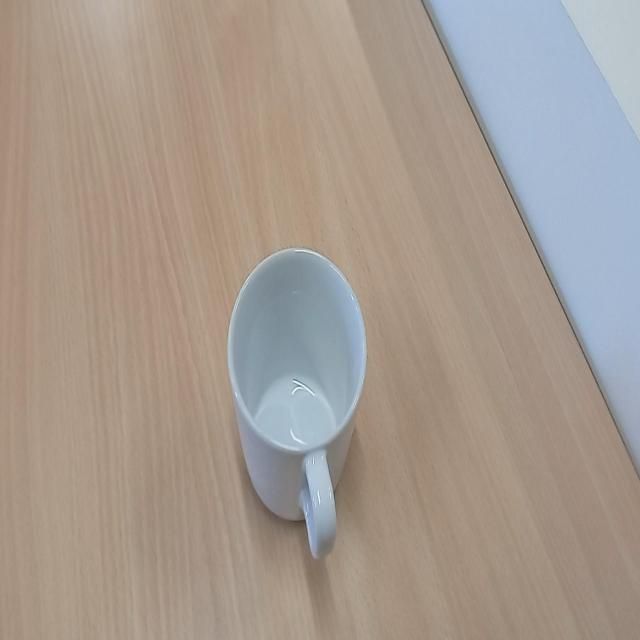cup: (225, 242, 371, 563)
